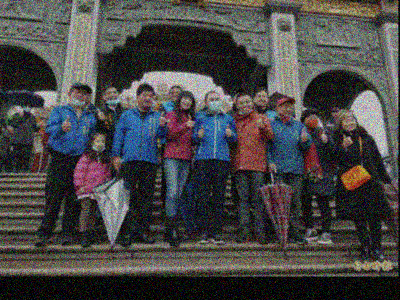mask_weared_incorrect: (70, 90, 87, 105), (237, 98, 253, 113), (105, 90, 118, 105), (92, 137, 105, 151)
with_mask: (205, 96, 221, 111), (304, 115, 319, 128), (23, 104, 31, 113)
without_mask: (341, 117, 357, 131), (137, 92, 153, 106), (278, 104, 293, 117), (180, 94, 193, 109), (254, 94, 268, 106), (169, 89, 182, 101), (331, 110, 340, 118)
